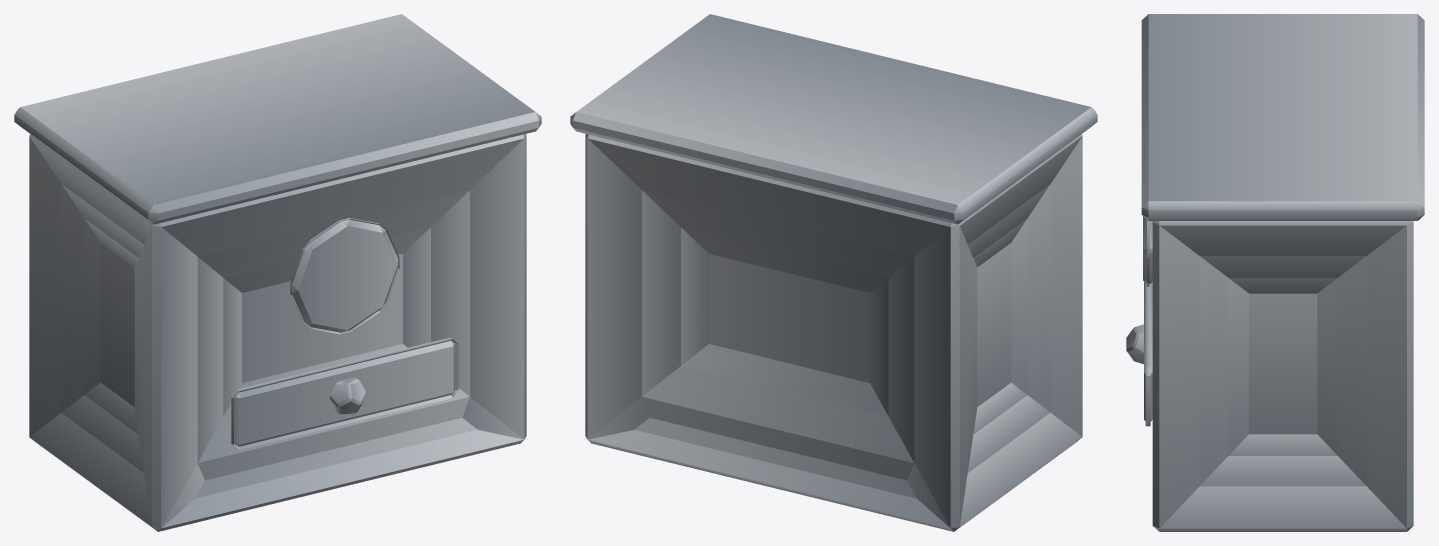
File: dt_recycling_bank.fbx
The picture shows the model from 3 angles, left to right: view 1: azimuth 30°, elevation 25°; view 2: azimuth 150°, elevation 25°; view 3: azimuth 270°, elevation 25°; orthographic projection.
Parts seen in each view (by area): view 1: dt_recycling_bank; view 2: dt_recycling_bank; view 3: dt_recycling_bank.
Part boxes in pixels (bbox=[...]): dt_recycling_bank: bbox=[14, 14, 541, 531]; dt_recycling_bank: bbox=[570, 14, 1097, 531]; dt_recycling_bank: bbox=[1126, 14, 1424, 531].
Bounding box in the file's own units: 600 × 486 × 392.
